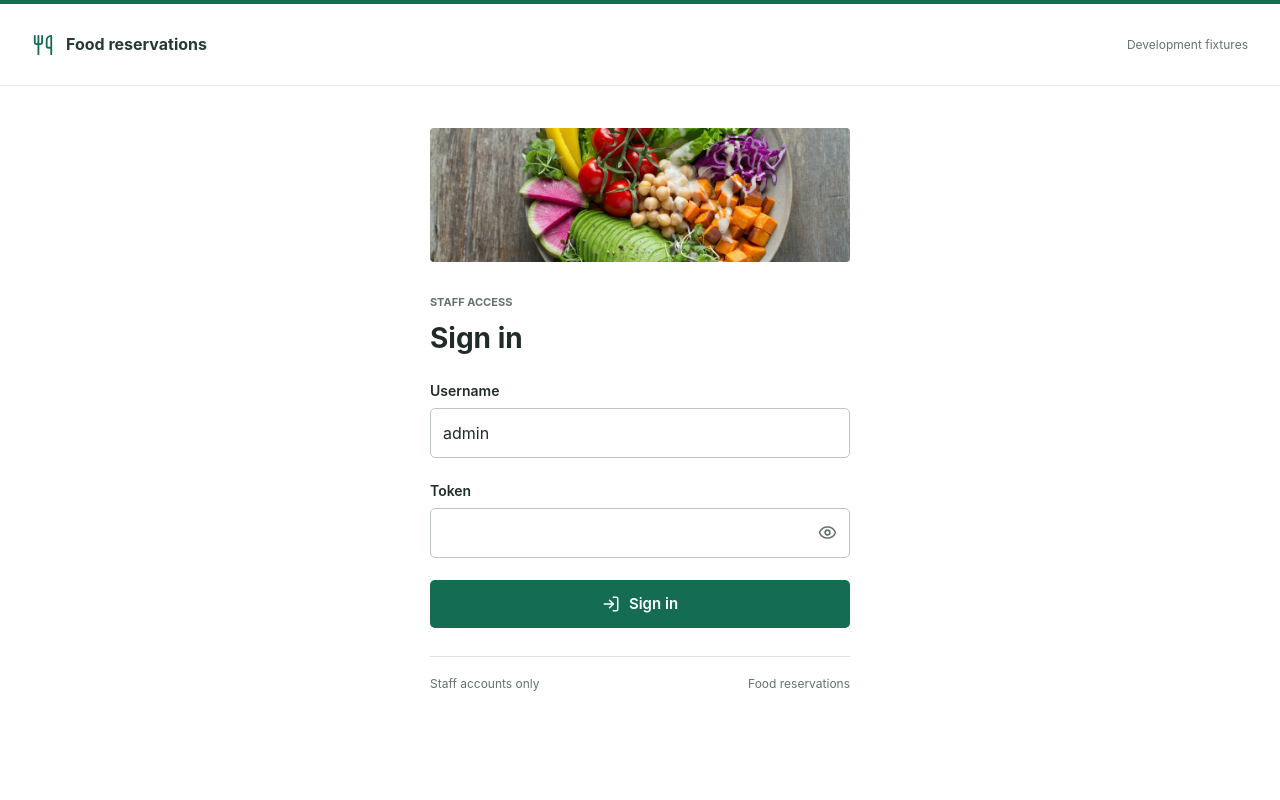
Test: foundation and staff session › prefills admin, validates the token, and has an accessible token visibility control
The width and height of the screenshot is (1280, 800).
Click the button "Sign in".
click(640, 604)  # box [430,580,850,628]
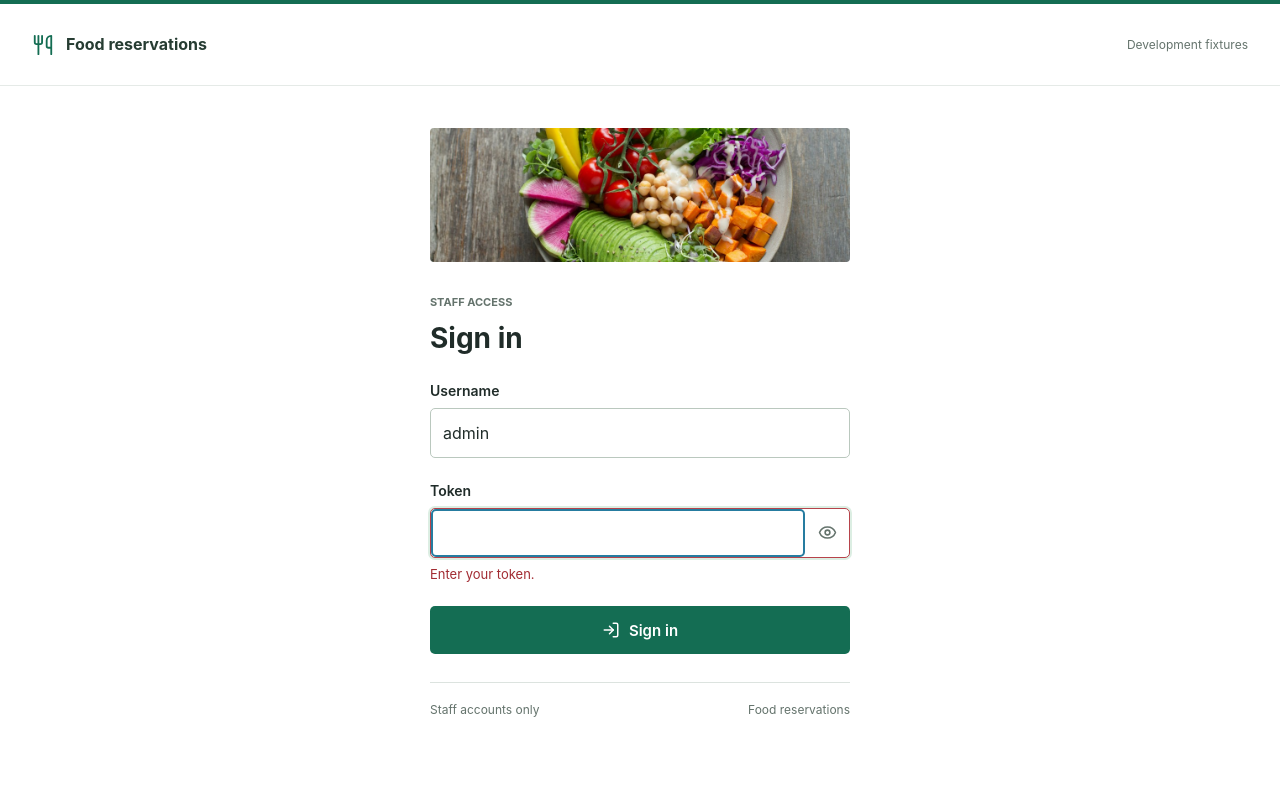
Result: the text "Enter your token." is shown at [430,566,535,582]
Clear the field labelled "Username" at (640, 432), box [431,408,849,456]
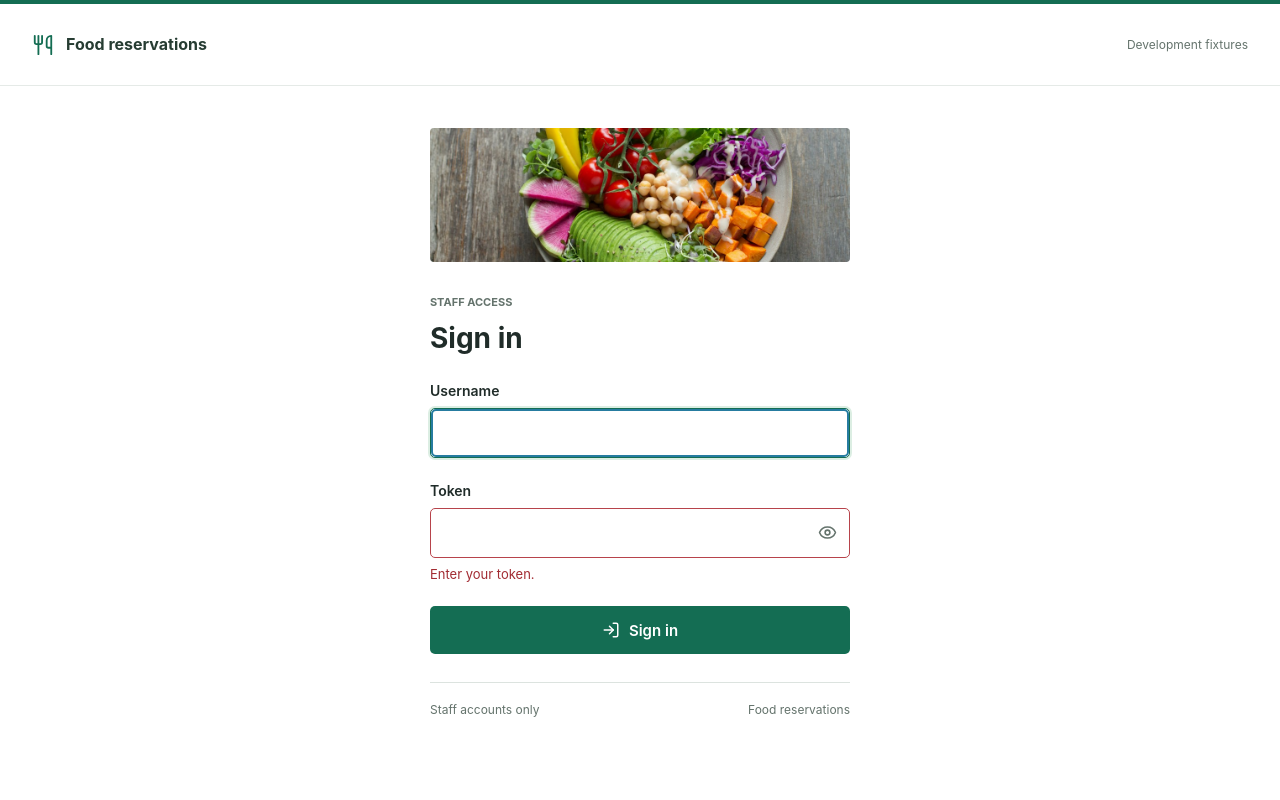
Click the button "Sign in".
click(640, 630)  # box [430,606,850,654]
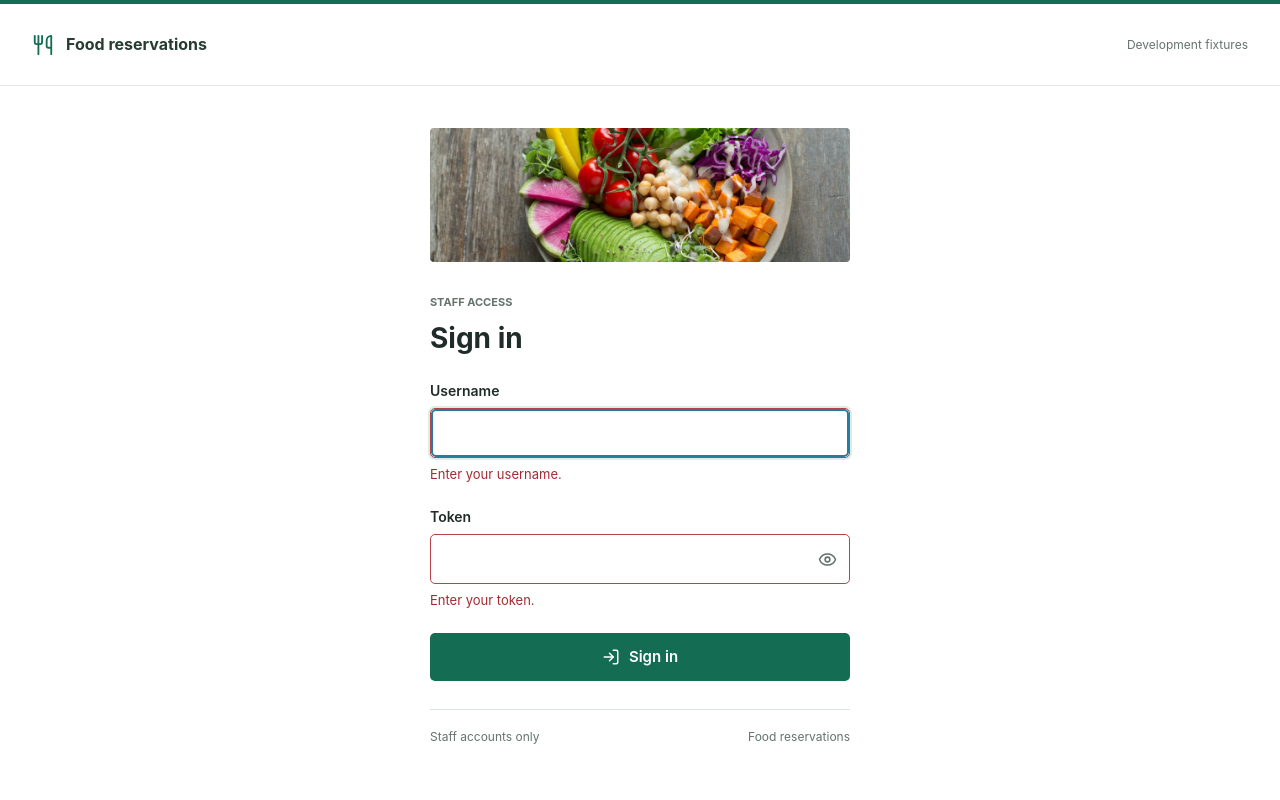
Result: the text "Enter your username." is shown at [430,466,562,482]
Type "secret" into the password field labelled "Token".
click(618, 559); type("secret")  # box [431,535,805,583]
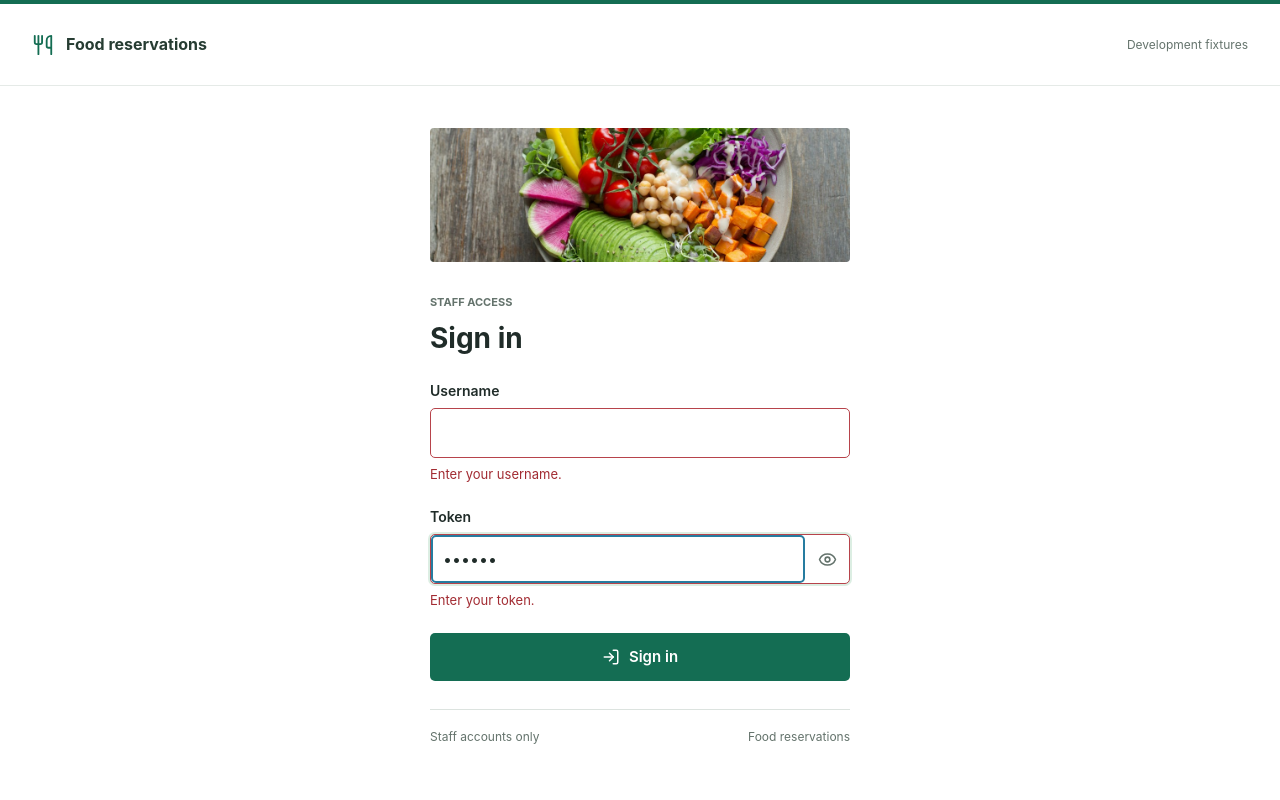
Click the button named "Show token".
click(827, 559)  # box [805,537,849,581]
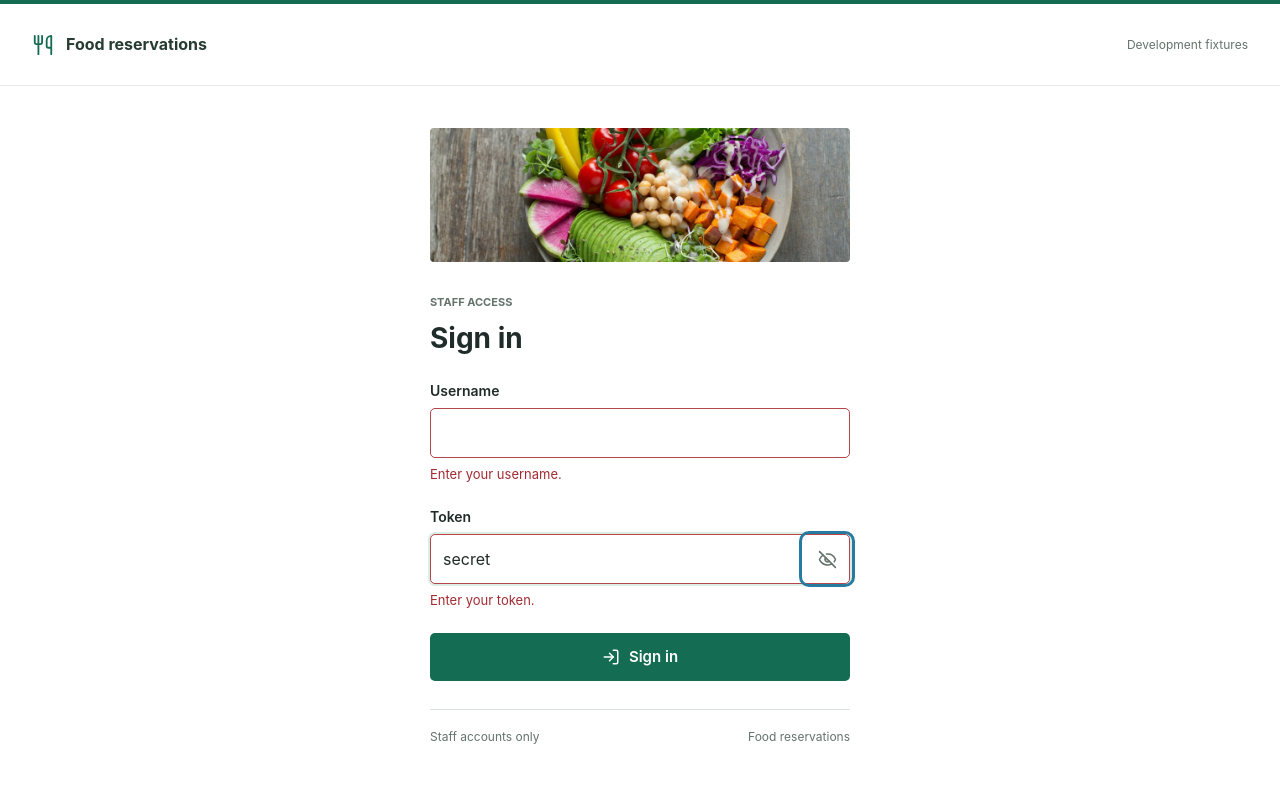
Result: the field labelled "Token" shows its text at [431,535,805,583]
Click the button named "Hide token".
click(827, 559)  # box [805,537,849,581]
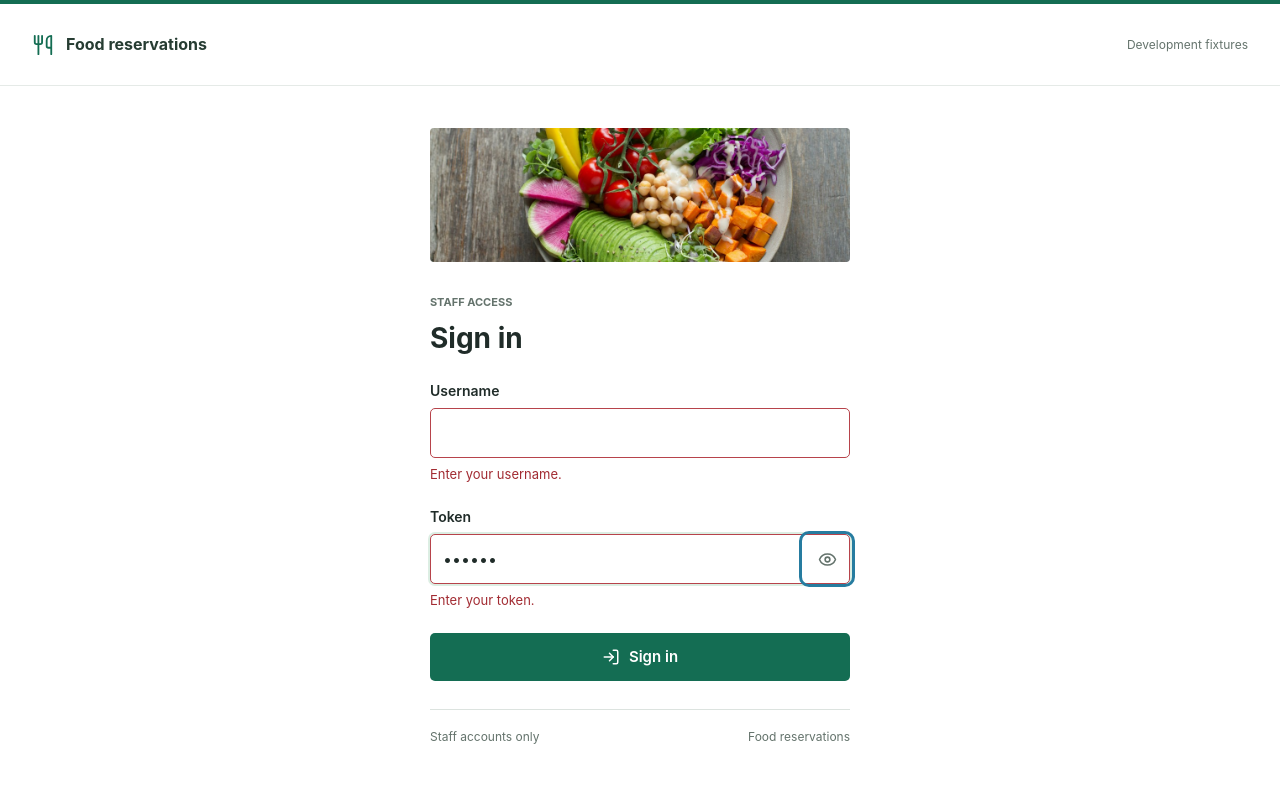
Result: the password field labelled "Token" hides its text at [431,535,805,583]
